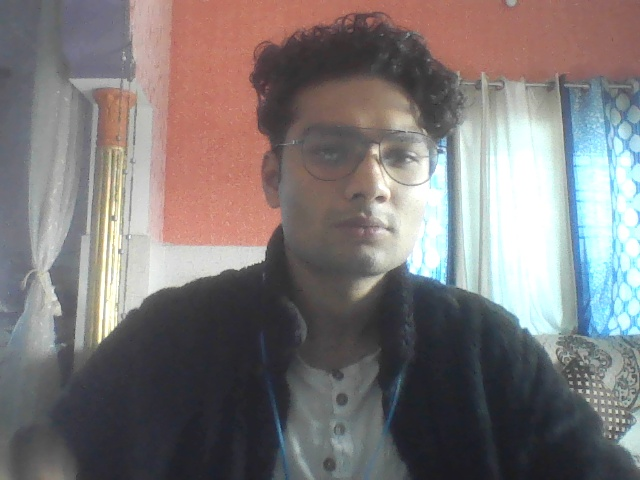real: (254, 22, 446, 294)
